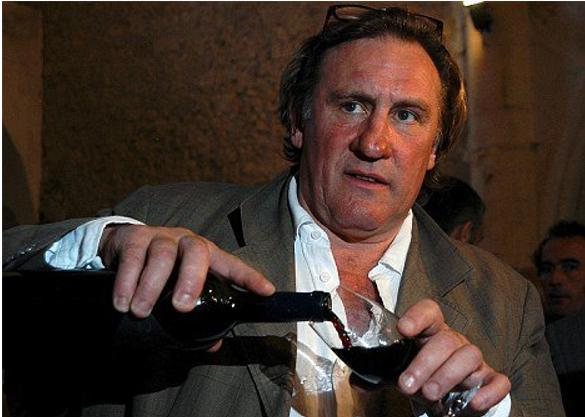Drunk: (315, 47, 431, 217)
